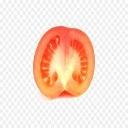tomato: (33, 26, 96, 97)
